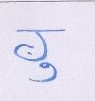u_matra: (29, 62, 59, 83)
